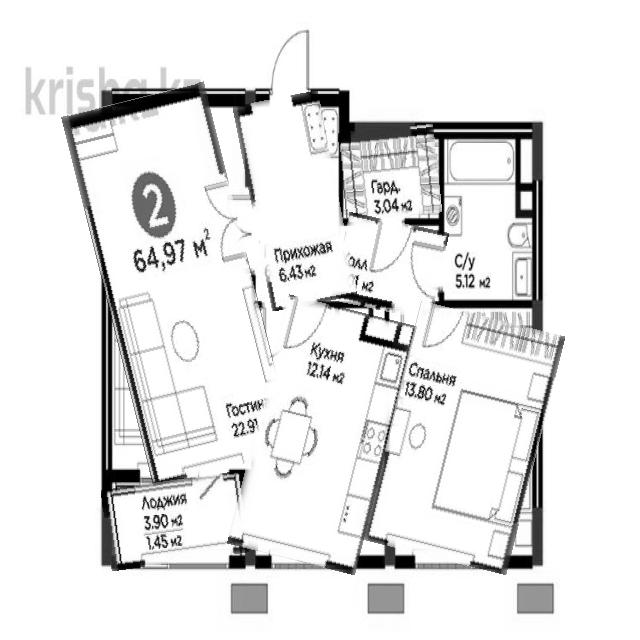balcony: (104, 475, 256, 566)
bathroom: (440, 134, 538, 305)
hallway: (242, 93, 348, 308), (335, 217, 445, 317)
kitchen: (241, 300, 403, 569)
living_room: (83, 87, 274, 480), (375, 308, 552, 568)
other: (340, 126, 440, 220)
